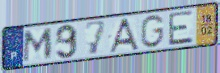7: (84, 19, 108, 58)
9: (54, 23, 79, 60)
A: (107, 17, 141, 55)
E: (167, 9, 196, 47)
G: (139, 13, 166, 49)
M: (21, 27, 55, 64)
